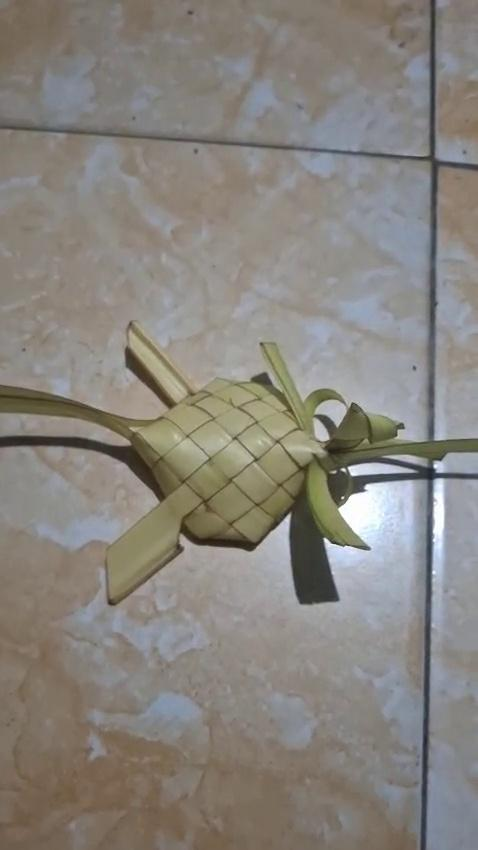Tipat Dampulan: (3, 320, 477, 620)
